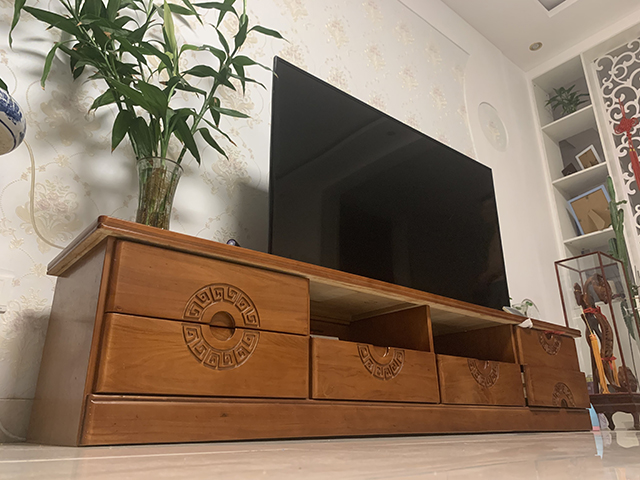cabinet: (23, 213, 597, 448)
